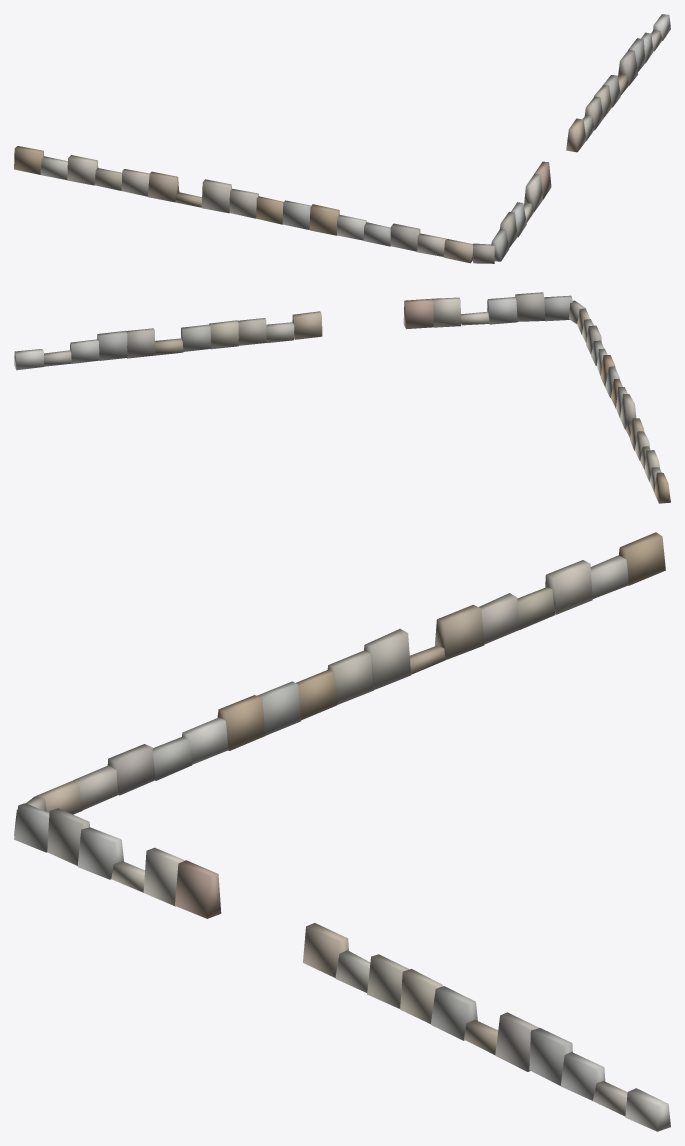
The model's file is farm_18_26_far.glb.
3 views of the same model, one above another, from view 1: azimuth 30°, elevation 25°; view 2: azimuth 150°, elevation 25°; view 3: azimuth 270°, elevation 25° (orthographic). The views are drawn at different scales.
Parts seen in each view (by area): view 1: geometry_0; view 2: geometry_0; view 3: geometry_0.
Part boxes in pixels (x1,y1,x2,y2): geometry_0: [14, 14, 670, 263]; geometry_0: [14, 292, 670, 503]; geometry_0: [14, 532, 670, 1131].
Bounding box in the file's own units: 41.75 × 2.64 × 21.79.
